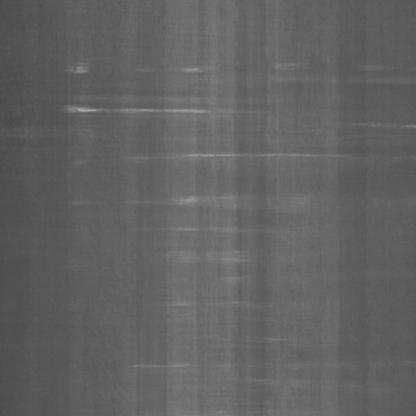waist_folding: (47, 37, 416, 380)
